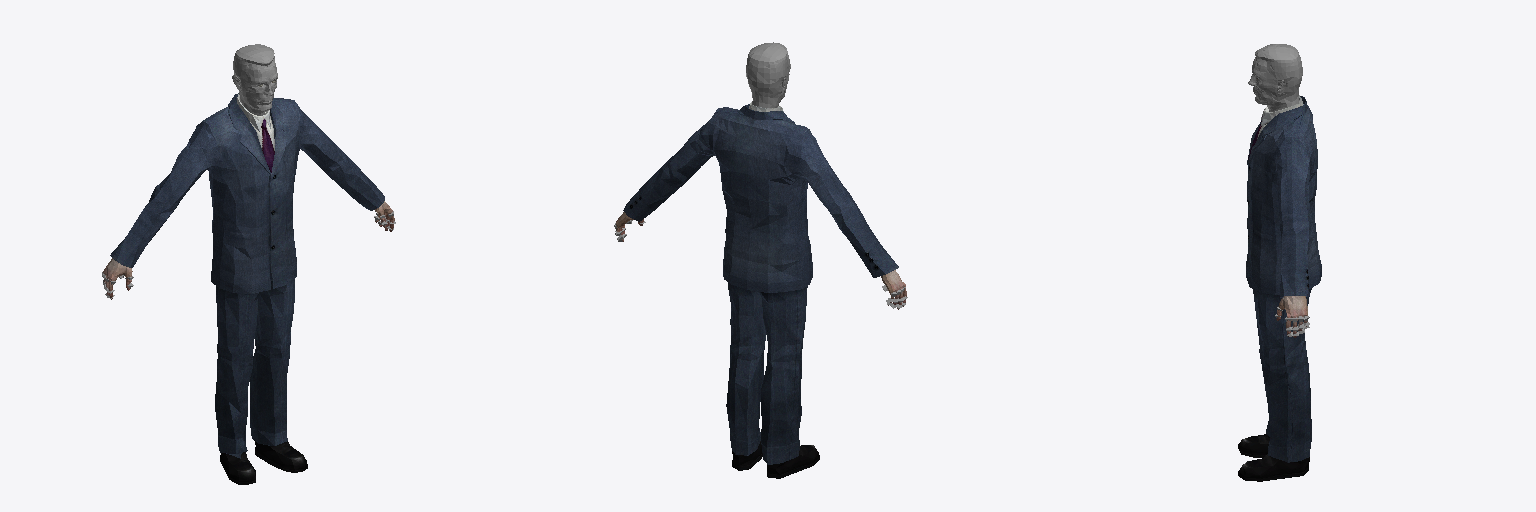
The picture shows the model from 3 angles: view 1: azimuth 30°, elevation 25°; view 2: azimuth 150°, elevation 25°; view 3: azimuth 270°, elevation 25°; orthographic projection.
Parts seen in each view (by area): view 1: (null); view 2: (null); view 3: (null).
Part boxes in pixels (x1,y1,x2,y2): (null): (102,44,395,484); (null): (614,42,907,478); (null): (1238,44,1321,481).
Bounding box in the file's own units: 52.94 × 73.15 × 13.29.
8 materials, 6 textured.